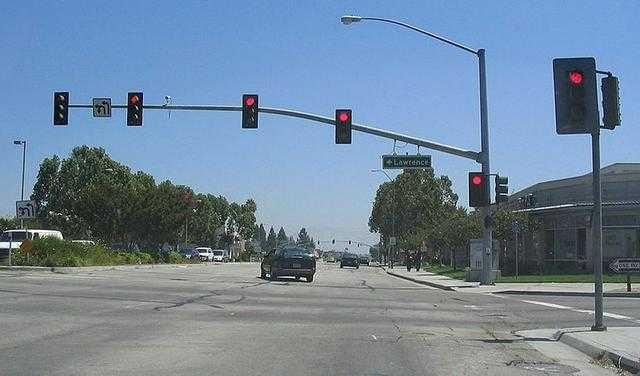red: (560, 64, 595, 126), (333, 109, 353, 142), (244, 93, 261, 130), (468, 173, 485, 209), (127, 93, 144, 126)
